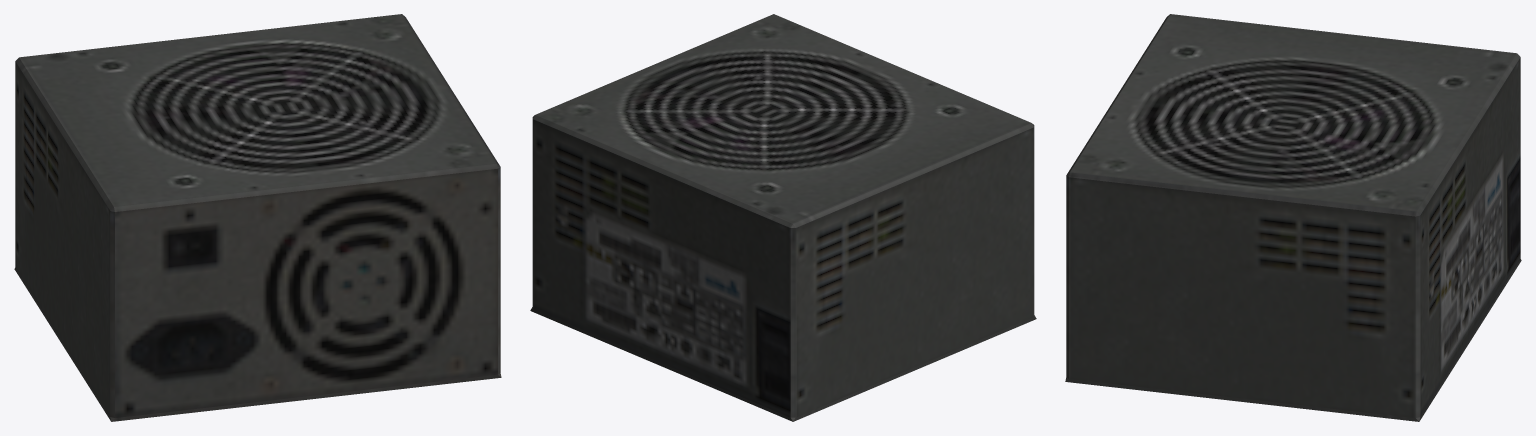
Rendered from power_supply_1.obj.
The picture shows the model from 3 angles, left to right: view 1: azimuth 30°, elevation 25°; view 2: azimuth 150°, elevation 25°; view 3: azimuth 270°, elevation 25°; orthographic projection. The views are drawn at different scales.
Visible parts, largest first — view 1: power_supply_1; view 2: power_supply_1; view 3: power_supply_1.
Boxes of the visible parts, x1,y1,x2,y2 form: power_supply_1: (14, 14, 501, 421); power_supply_1: (530, 14, 1036, 421); power_supply_1: (1065, 14, 1521, 421).
Bounding box in the file's own units: 0.3194 × 0.154 × 0.3056.
